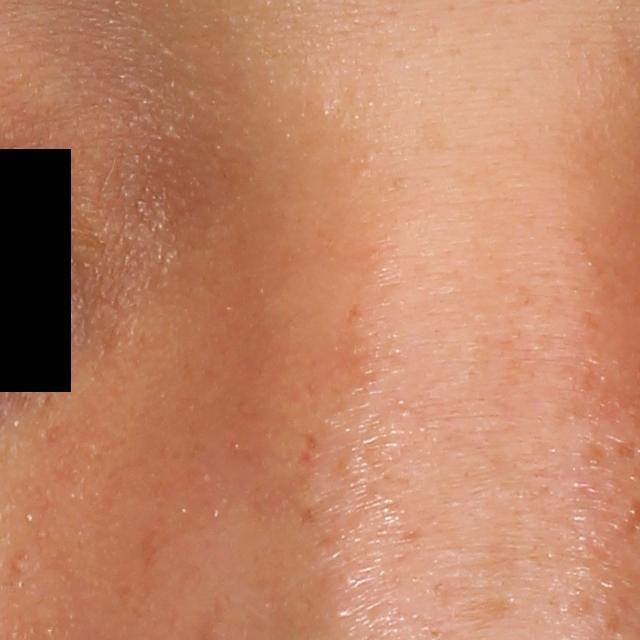melasma: (431, 579, 519, 633), (577, 432, 609, 467), (614, 439, 636, 459)
